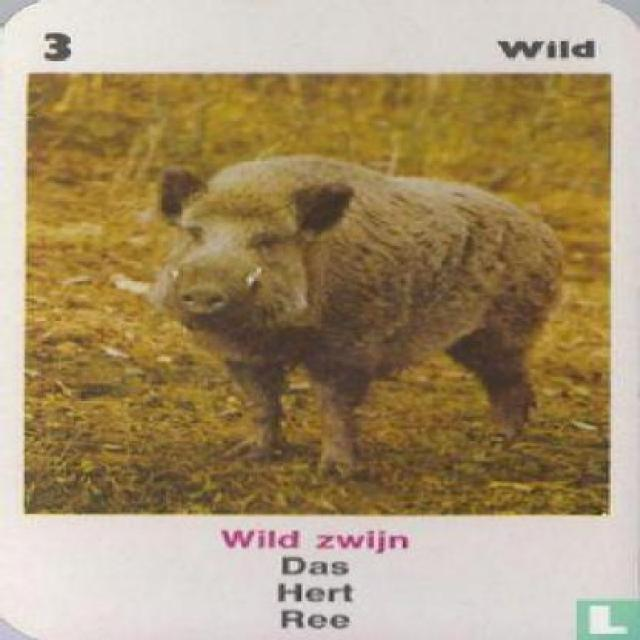wildboar: (143, 154, 579, 495)
